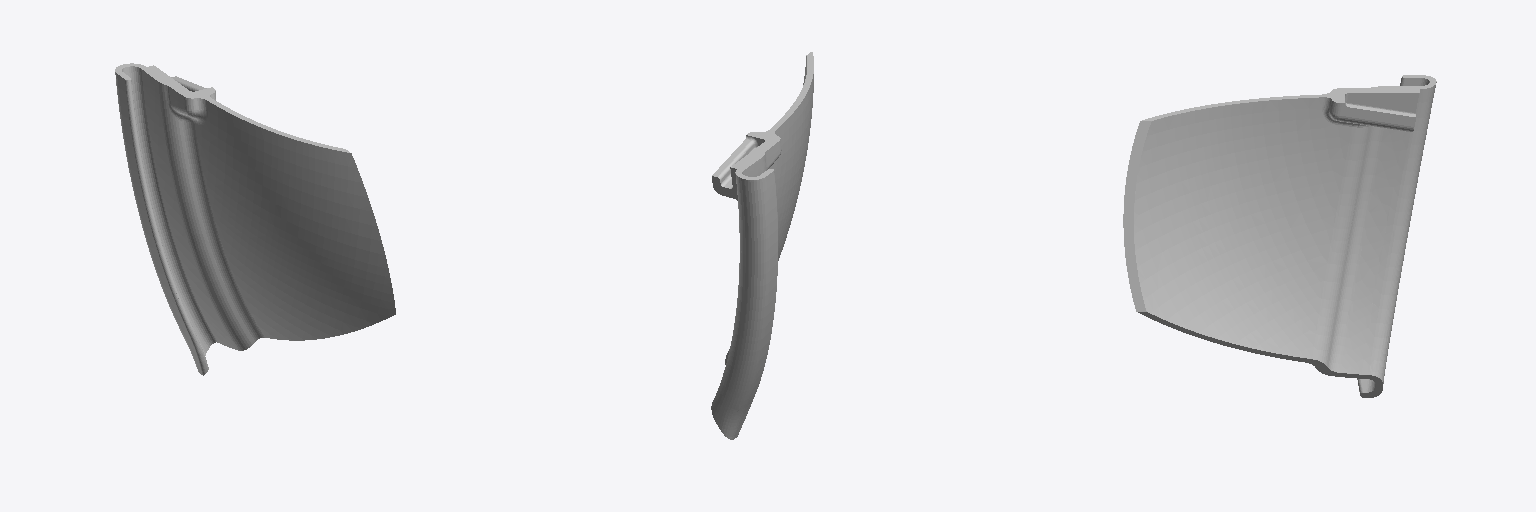
The model's file is Body14.obj.
The picture shows the model from 3 angles: view 1: azimuth 30°, elevation 25°; view 2: azimuth 150°, elevation 25°; view 3: azimuth 270°, elevation 25°; orthographic projection.
Visible parts, largest first — view 1: Body14; view 2: Body14; view 3: Body14.
Part boxes in pixels (left/top/right/bottom): Body14: left=115, top=63, right=395, bottom=375; Body14: left=711, top=52, right=813, bottom=439; Body14: left=1123, top=75, right=1436, bottom=397.
Size of the model in its own units: 0.4613 by 0.9506 by 0.9145.